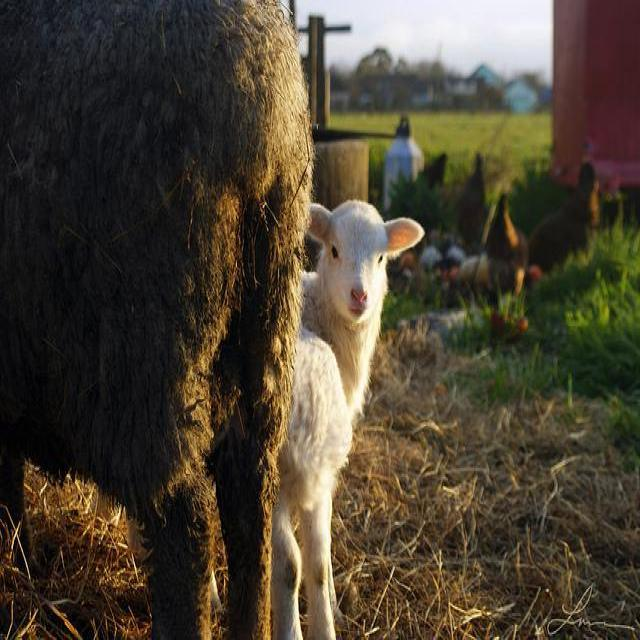Sheep: (0, 2, 319, 636), (270, 202, 429, 638)
